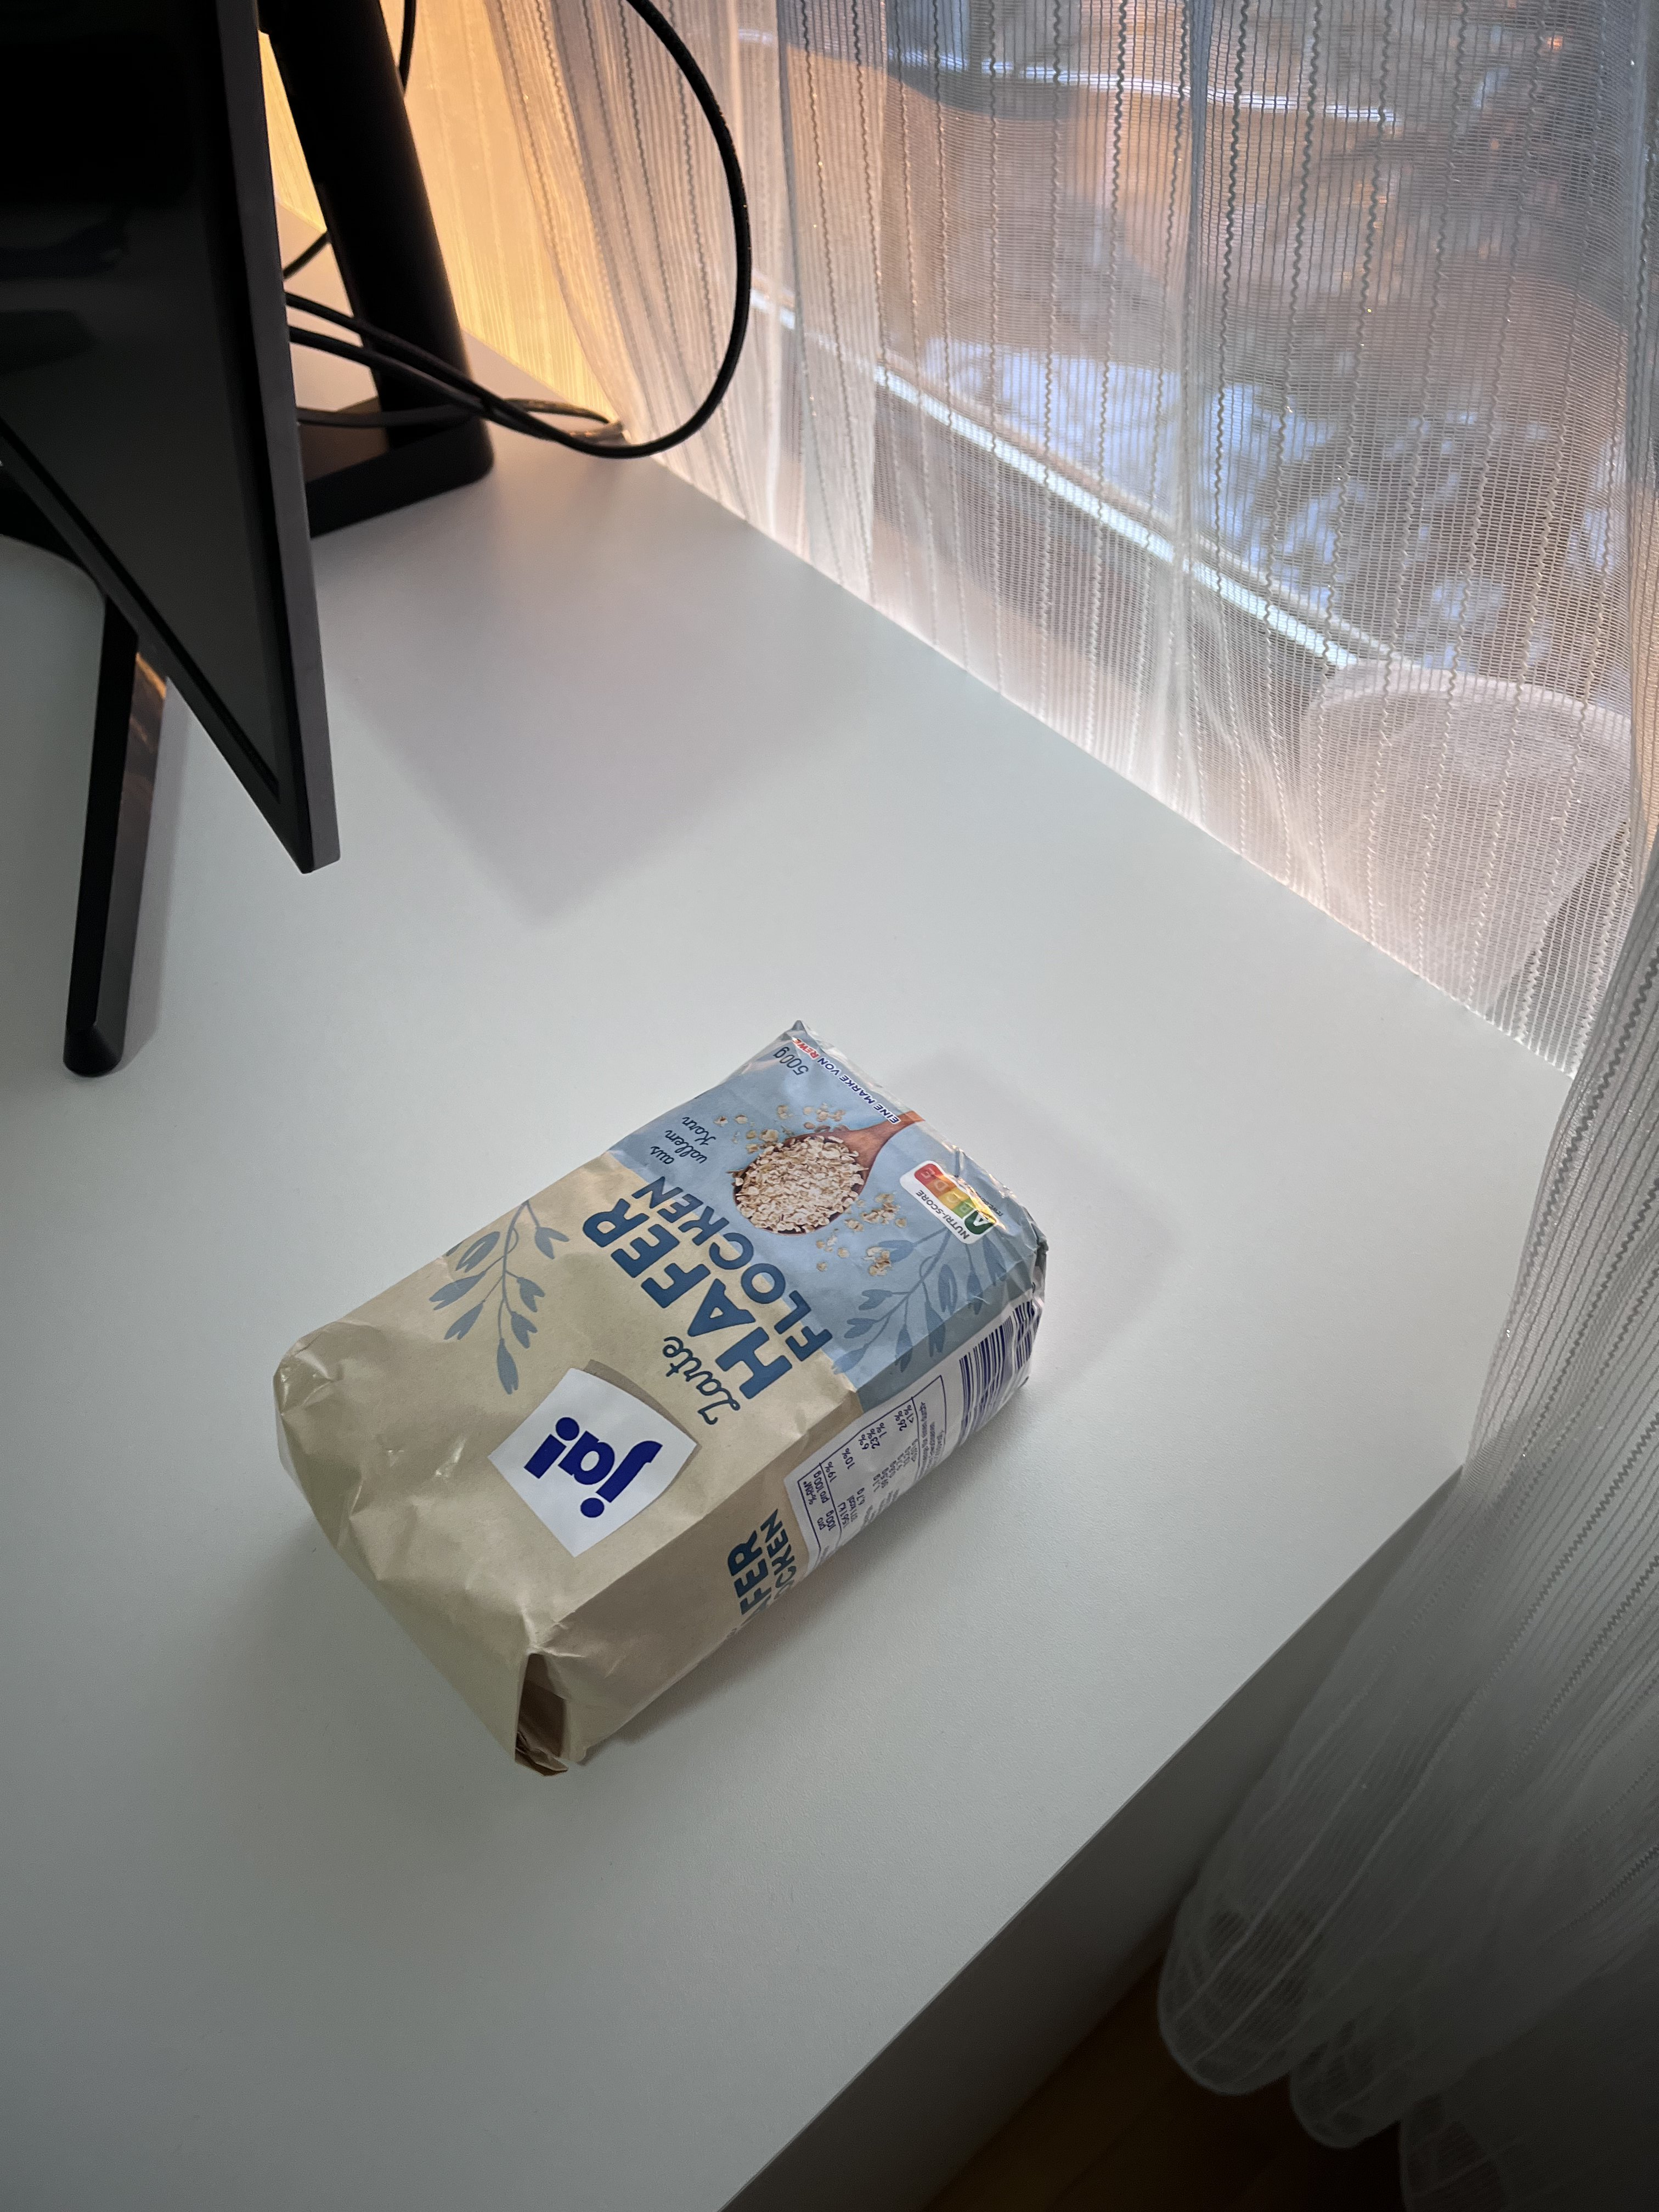haferflocken_ja: (270, 1021, 1051, 1775)
